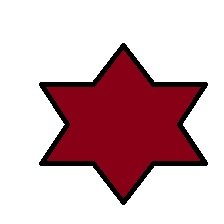star: (38, 44, 208, 205)
